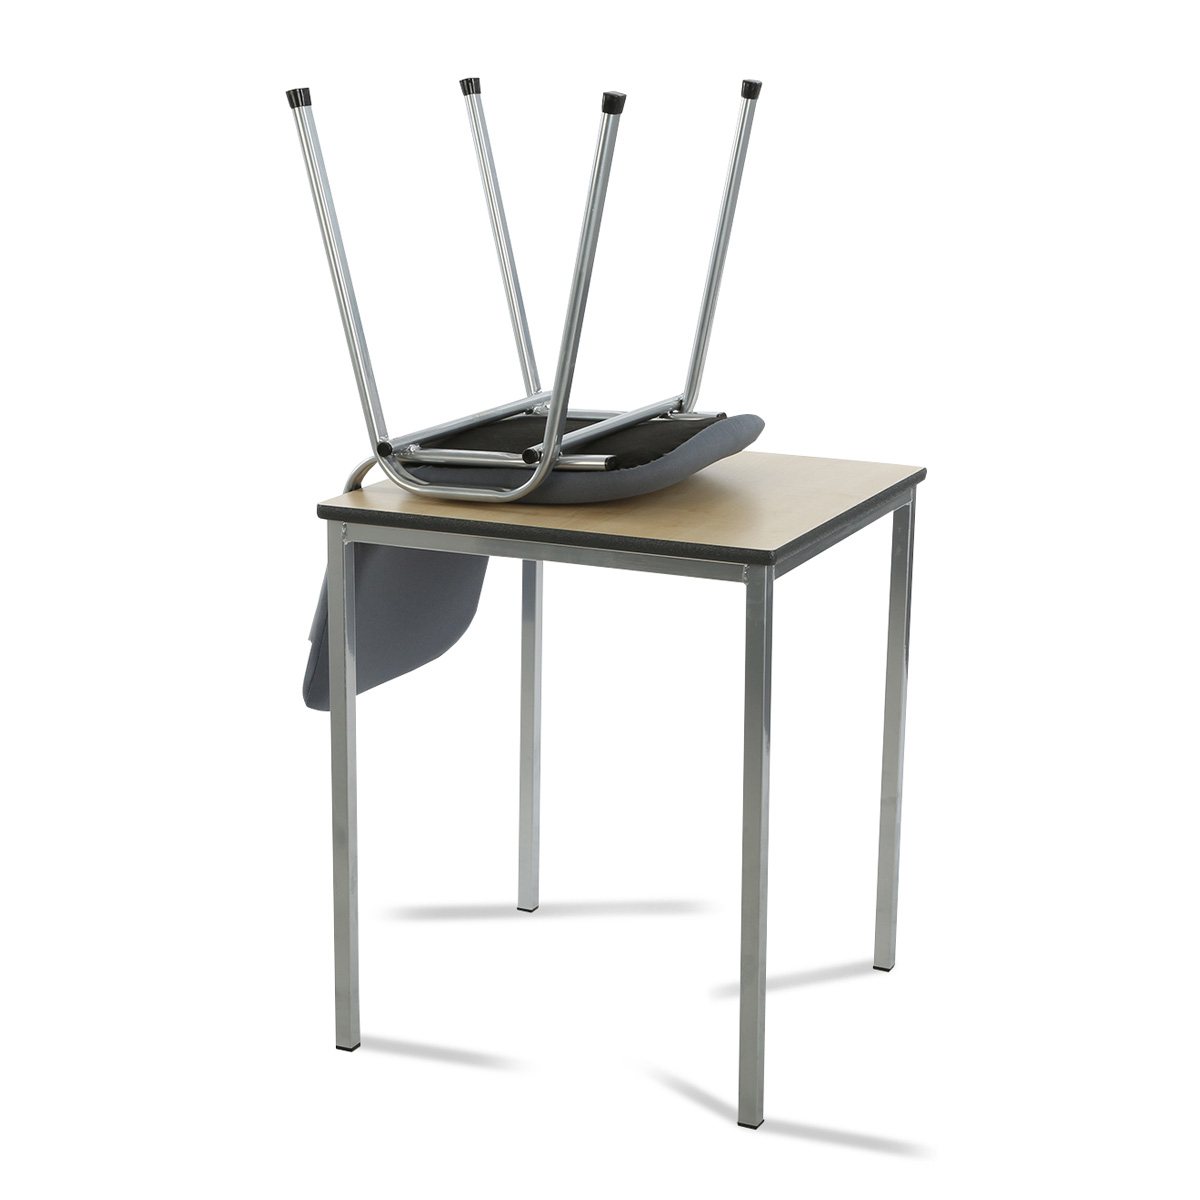desk_060.jpg: (285, 352, 935, 1138)
